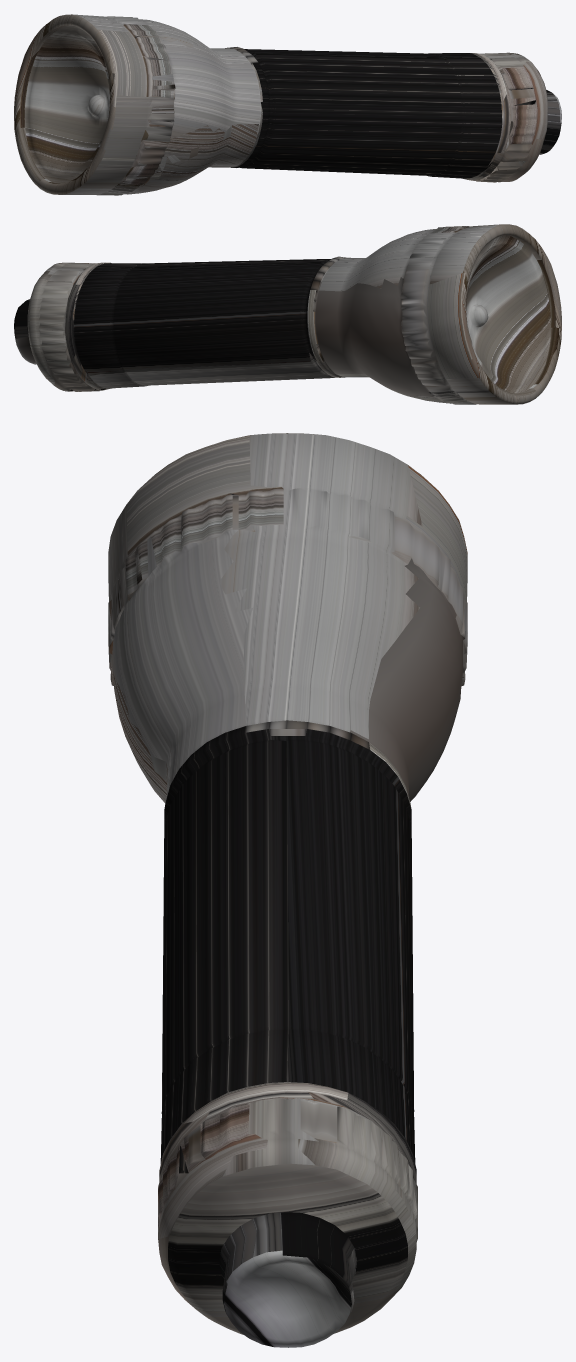
File: flashlight.glb
The picture shows the model from 3 angles, top to bottom: view 1: azimuth 30°, elevation 25°; view 2: azimuth 150°, elevation 25°; view 3: azimuth 270°, elevation 25°; orthographic projection. The views are drawn at different scales.
Visible parts, largest first — view 1: material; view 2: material; view 3: material.
Boxes of the visible parts, left/top/right/bottom form: material: left=14, top=14, right=561, bottom=195; material: left=14, top=224, right=561, bottom=404; material: left=108, top=433, right=467, bottom=1347.
Size of the model in its own units: 1.9 by 0.9041 by 0.5761.
Materials: 1 (1 with a texture image).
